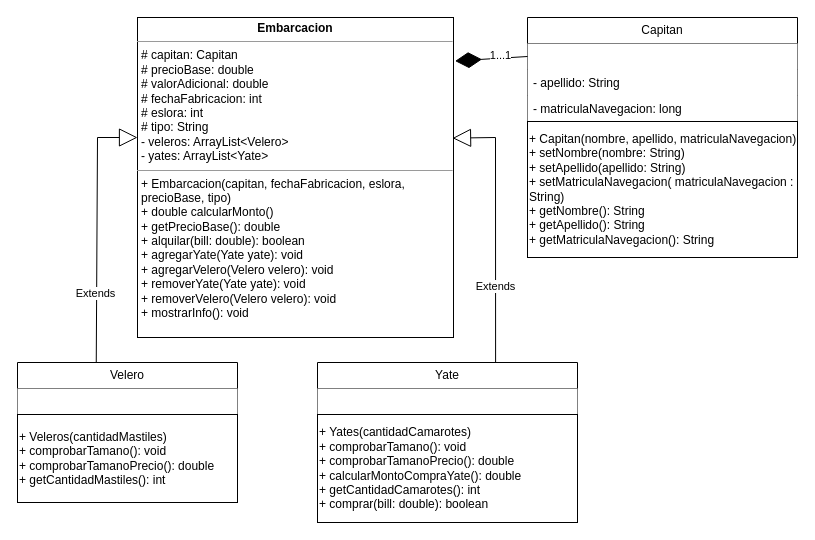
The diagram is 815 pixels wide and 540 high, and some of its shapes have lost their labels. The shapes that lost their labels are listed below. From the top down, each one's box as (x1, y1, x2, y2) in pixels, then its label:
(527, 43, 797, 69): - nombre: String
(17, 388, 237, 414): - cantidadMastiles: int
(317, 388, 577, 414): - cantidadCamarotes: int
